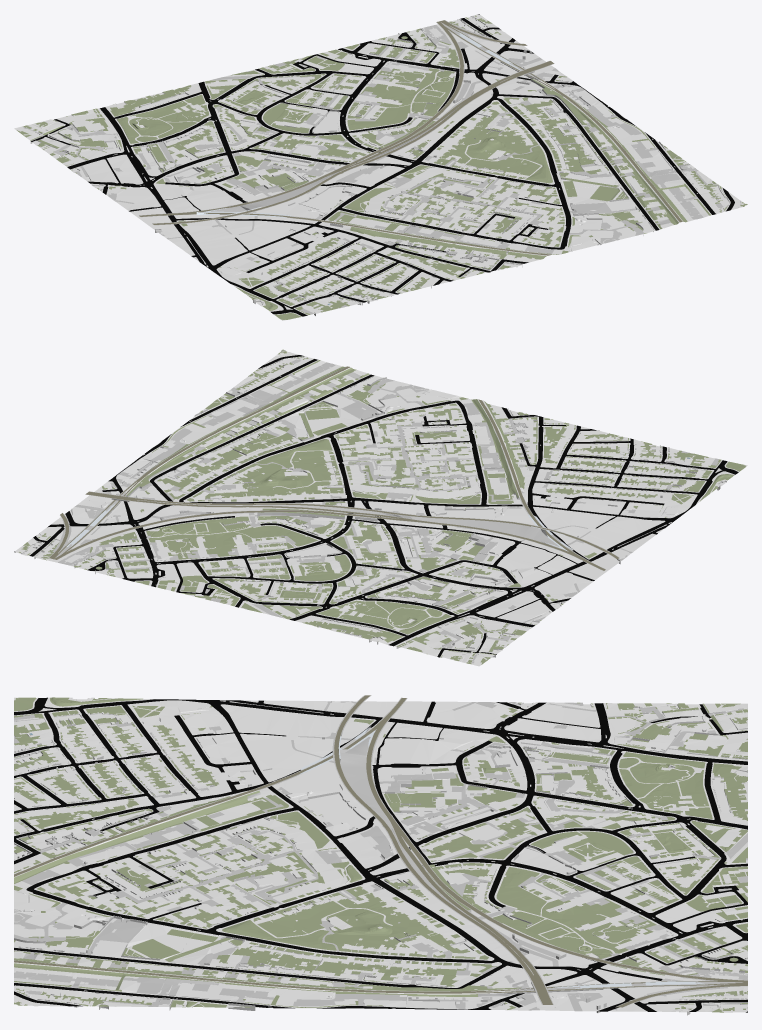
The model's file is TQ3175_Terrain_LOD_1_draco.glb.
3 renders of one model, top to bottom at view 1: azimuth 30°, elevation 25°; view 2: azimuth 150°, elevation 25°; view 3: azimuth 270°, elevation 25°, orthographic. The views are drawn at different scales.
Visible parts, largest first — view 1: TQ3175_Terrain; view 2: TQ3175_Terrain; view 3: TQ3175_Terrain.
Boxes of the visible parts, x1,y1,x2,y2 form: TQ3175_Terrain: (14, 14, 747, 320); TQ3175_Terrain: (14, 349, 747, 666); TQ3175_Terrain: (14, 695, 747, 1015).
Size of the model in its own units: 1000 by 22.16 by 1000.
Materials: 1 (1 with a texture image).
